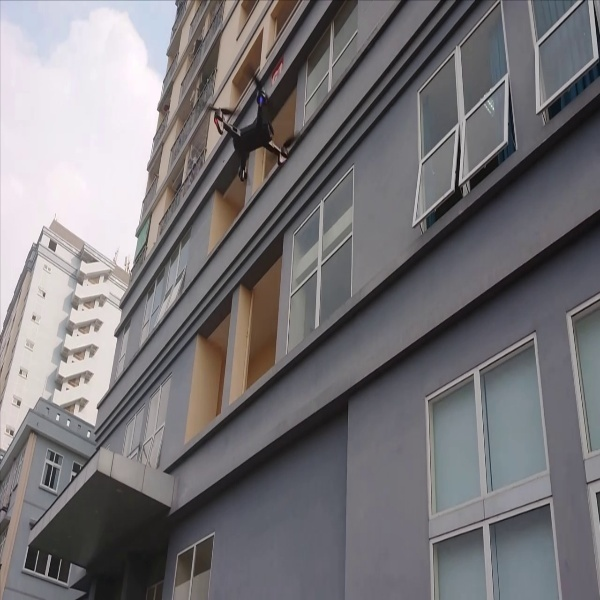drone: (202, 68, 297, 182)
